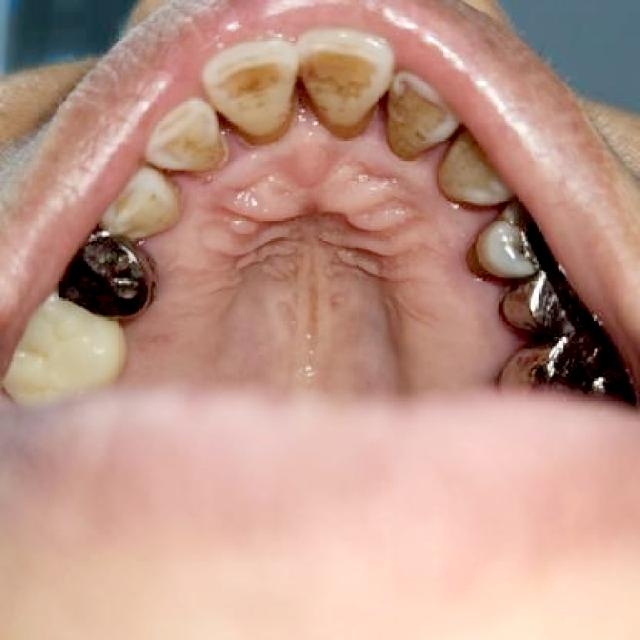Plaque: (142, 88, 521, 398), (493, 218, 525, 232)
